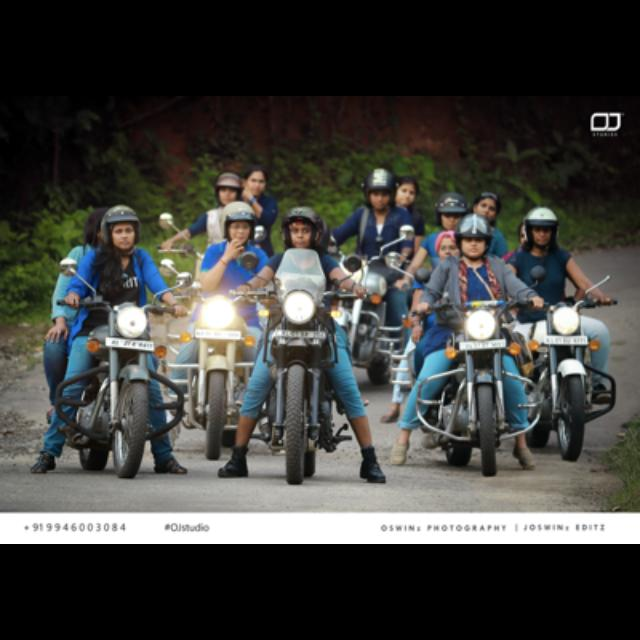With Helmet: (357, 157, 403, 216), (277, 202, 327, 252), (98, 201, 144, 251), (516, 205, 566, 251), (216, 197, 258, 250), (454, 208, 494, 262)
